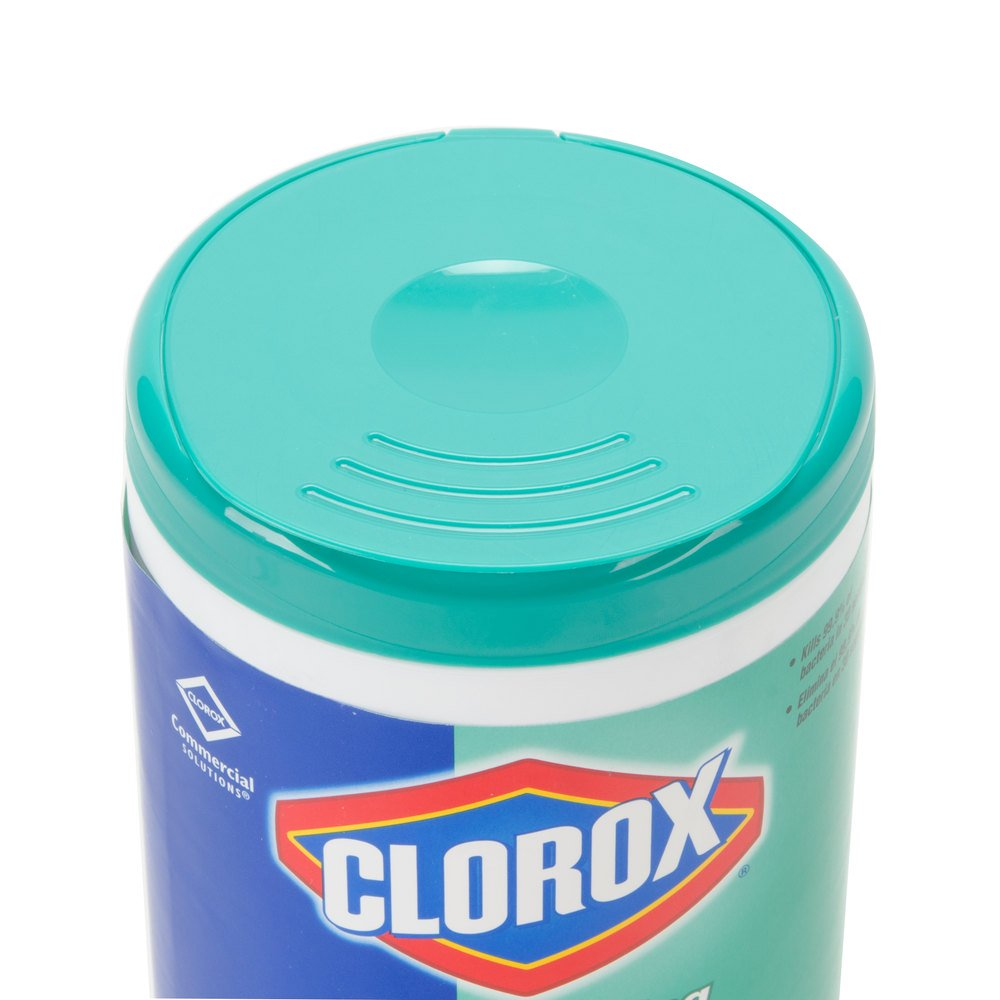Wipes: (106, 118, 882, 999)
